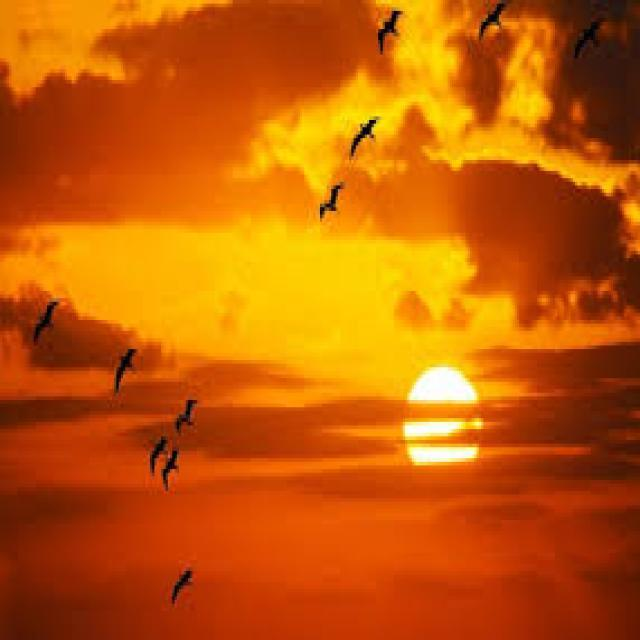bird: (341, 0, 429, 84), (29, 258, 81, 371), (318, 76, 385, 153), (105, 286, 143, 394), (309, 167, 362, 240), (556, 0, 603, 76), (467, 0, 512, 76), (162, 560, 200, 629), (174, 382, 212, 451), (161, 440, 195, 502), (138, 428, 174, 470)
